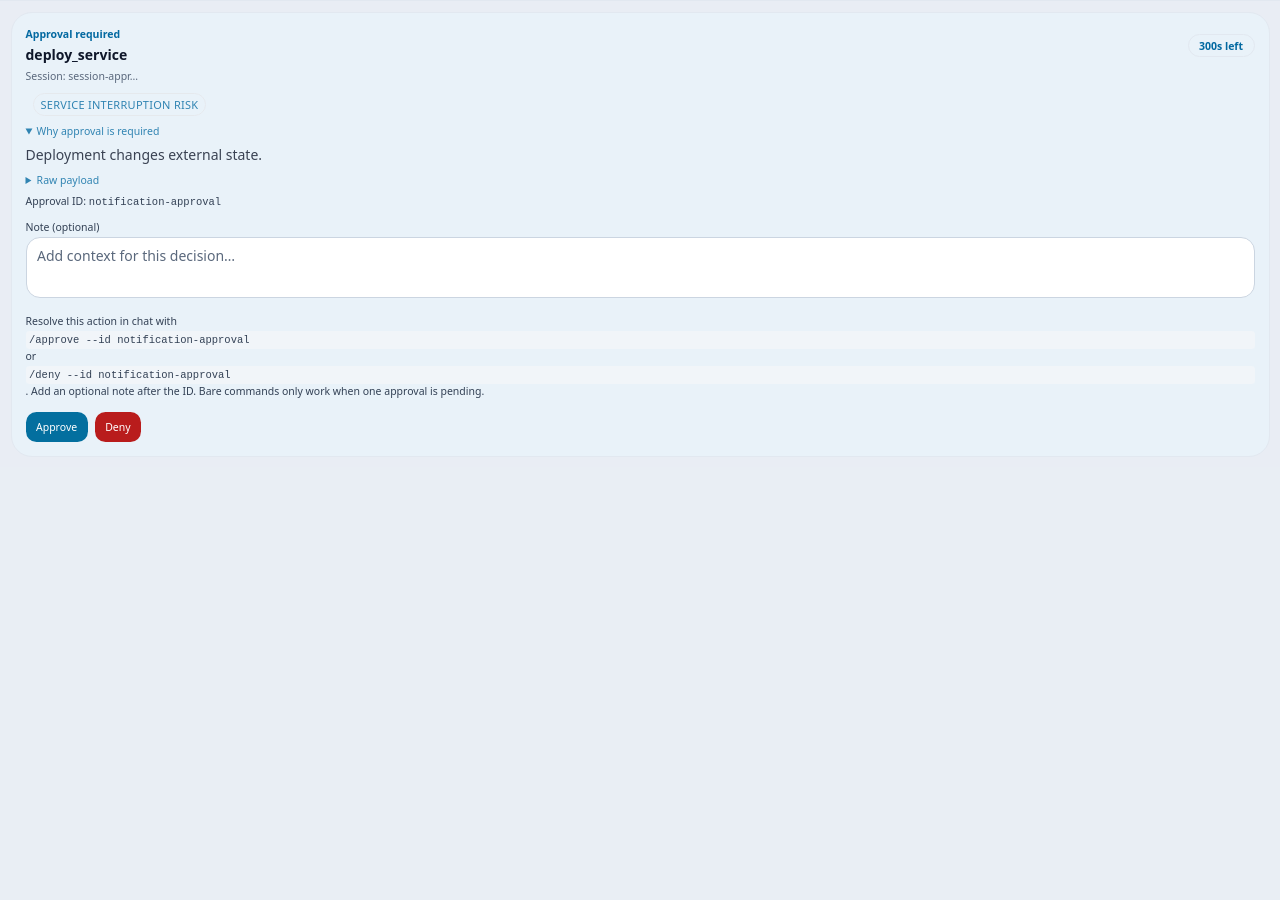
Test: ConversationPendingInteractions › keeps the request visible and reports a resolution error
What coordinates should you click on to do the following:
click the button "Approve"
I would click on:
 (57, 427)
Its box is 26,412 -> 88,442.
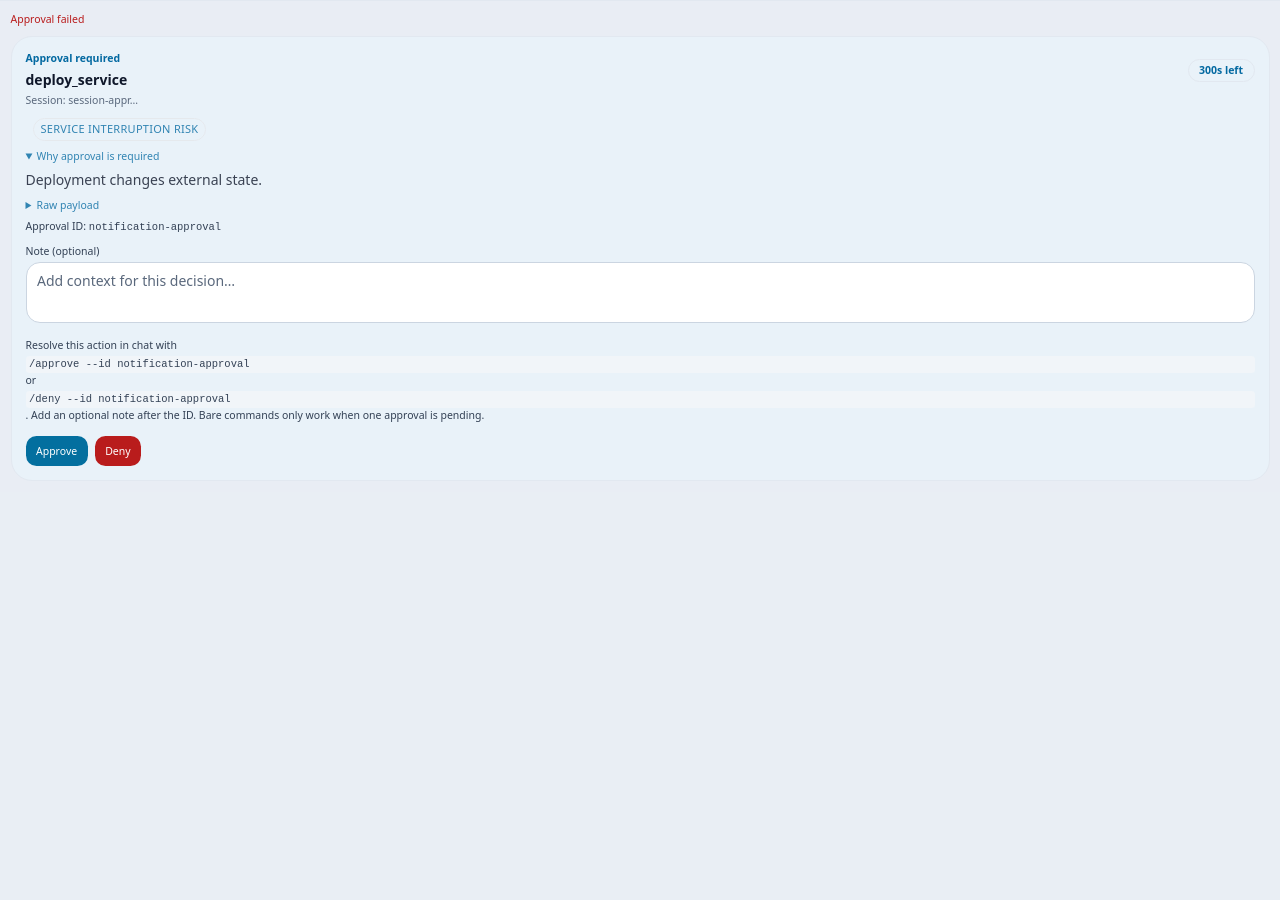
Expected: the heading "deploy_service" is shown, 26,68 -> 127,90
Now the message reads "Approval failed", box 10,12 -> 84,26
